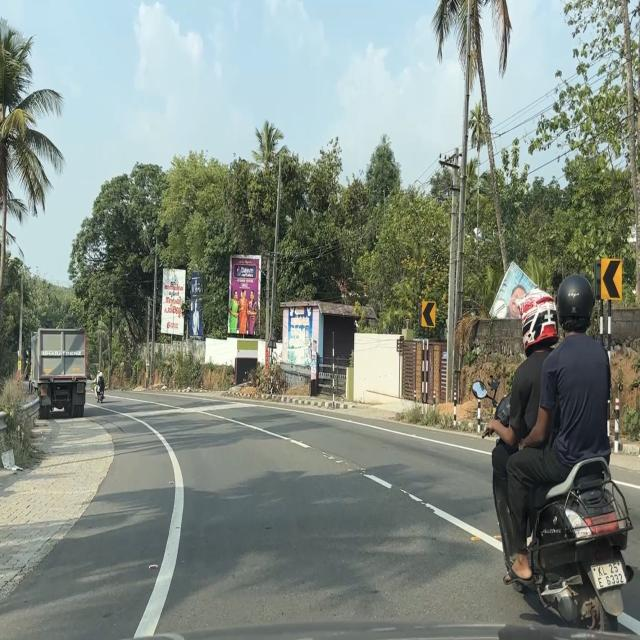TURN_LEFT: (600, 257, 623, 302), (421, 300, 436, 329)
